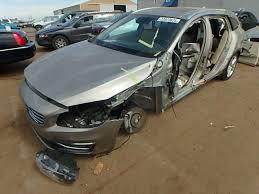Headlight-Damage: (56, 101, 110, 130)
doorouter-dent: (168, 23, 206, 88)
